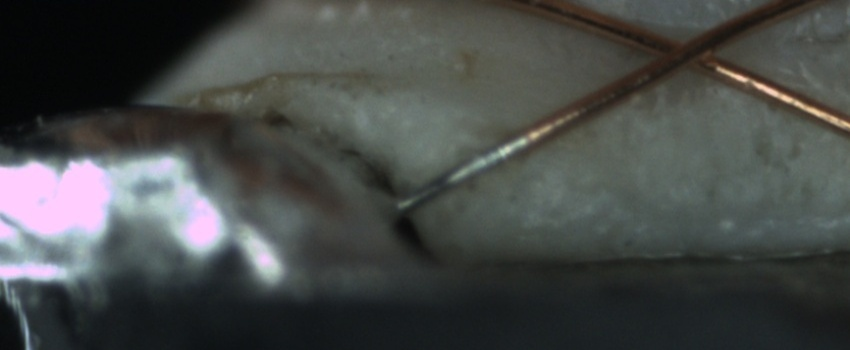CL: (636, 23, 733, 77)
TS: (396, 133, 530, 215)
TTCW: (397, 107, 569, 212)
